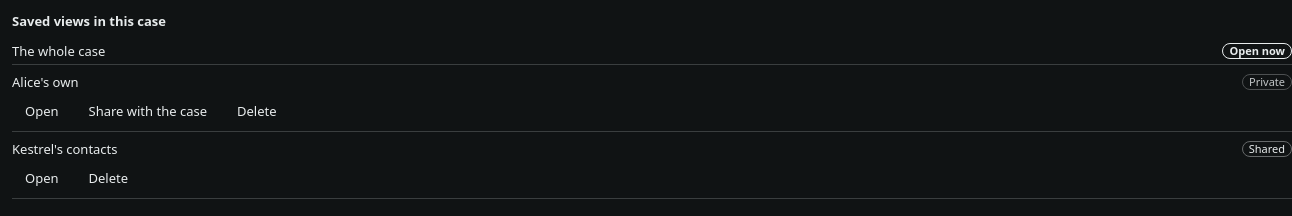
Scenario: ViewsPanel › asks once before deleting, and deleting says nothing on the case goes with it
The image size is (1292, 216).
Click the button with aria-label "Delete Alice's own" at (257, 111), box [224, 95, 290, 127]
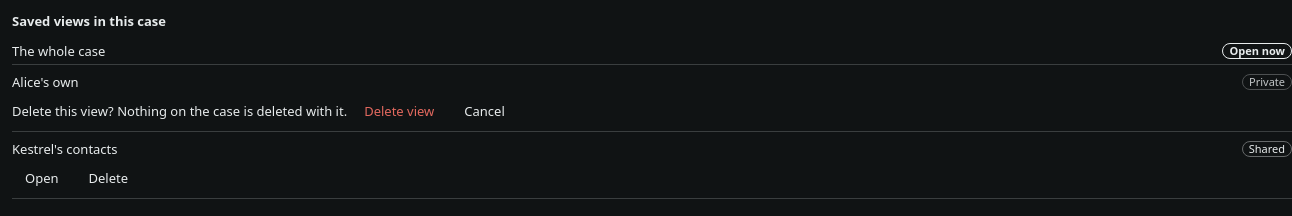
Check: the text "Delete this view? Nothing on the case is deleted with it." is shown, box [12, 102, 347, 120]
Click the button "Delete view" at (399, 111), box [351, 95, 447, 127]
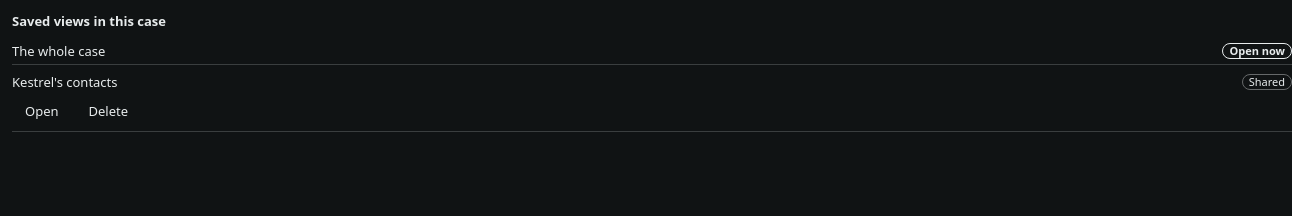
Check: the text "Alice's own" is gone
